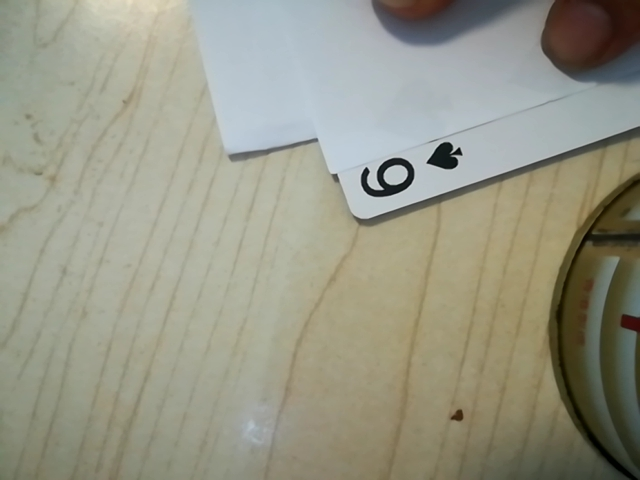ht 6: (346, 134, 474, 214)
